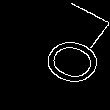O_NW: (15, 23, 95, 87)
